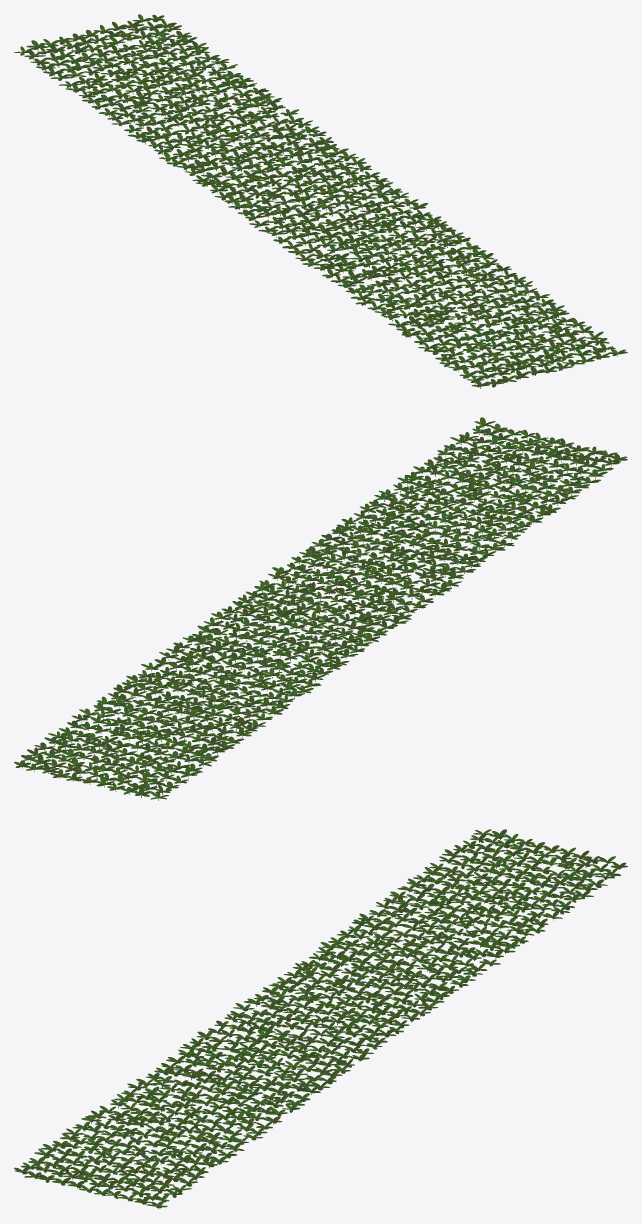
The model's file is NMC_B00092_001.glb.
The picture shows the model from 3 angles, top to bottom: view 1: azimuth 30°, elevation 25°; view 2: azimuth 150°, elevation 25°; view 3: azimuth 330°, elevation 25°; orthographic projection.
Visible parts, largest first — view 1: moss_ground_cover_nmc_b00092_001; view 2: moss_ground_cover_nmc_b00092_001; view 3: moss_ground_cover_nmc_b00092_001.
Boxes of the visible parts, x1=… form: moss_ground_cover_nmc_b00092_001: x1=14, y1=14, x2=627, y2=388; moss_ground_cover_nmc_b00092_001: x1=14, y1=417, x2=627, y2=800; moss_ground_cover_nmc_b00092_001: x1=14, y1=829, x2=627, y2=1209.
Size of the model in its own units: 0.9492 by 0.0367 by 4.93.
